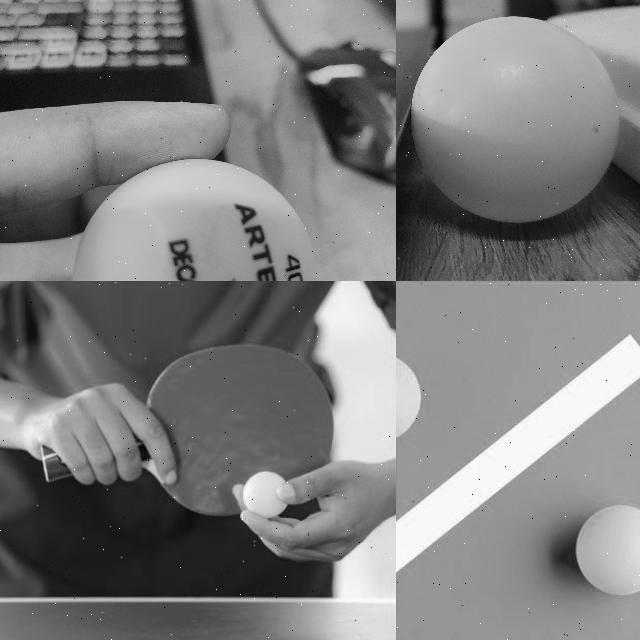ping-pong-ball: (408, 16, 620, 224), (72, 158, 313, 280), (575, 506, 639, 595), (396, 352, 422, 442), (245, 470, 288, 518)
